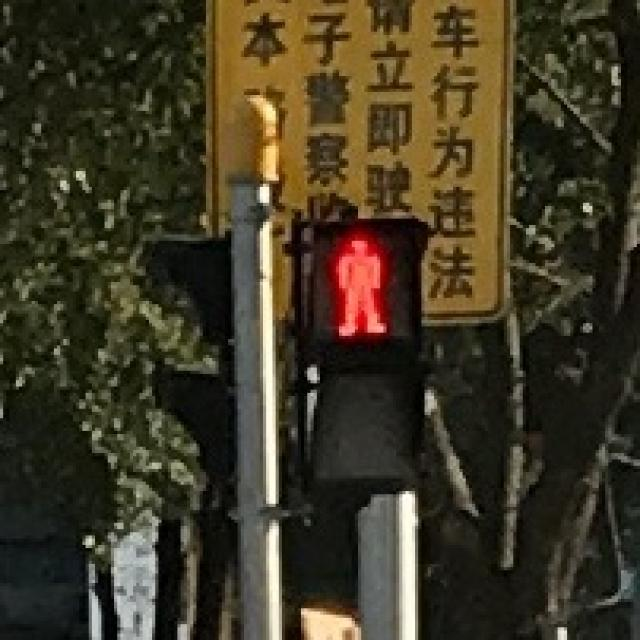red_light: (308, 215, 402, 336)
